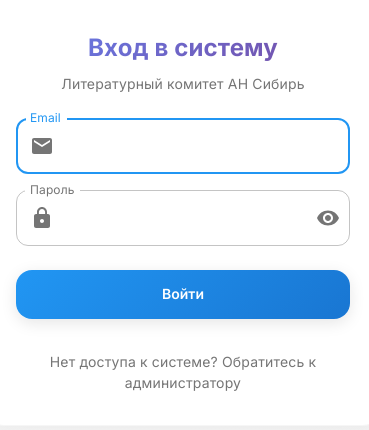
Test case: LoginForm › shows validation error for short password
Type "123" into the password field labelled "Пароль" at (181, 218), box 62,190 -> 300,246
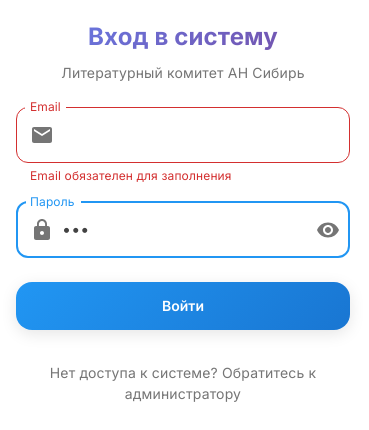
Press Tab
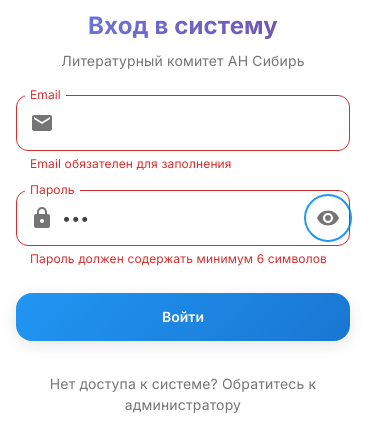
Result: the text "Пароль должен содержать минимум 6 символов" is shown at 30,249 -> 336,269
